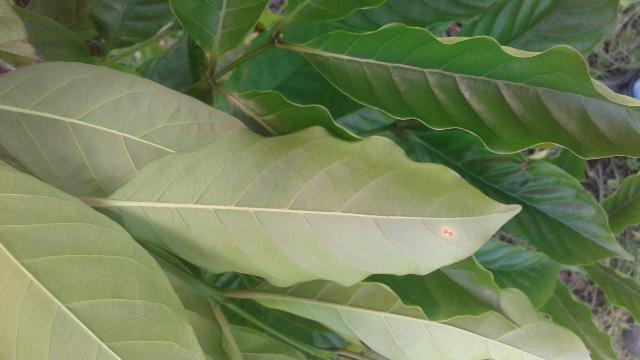rust_level_1: (107, 128, 518, 288)
